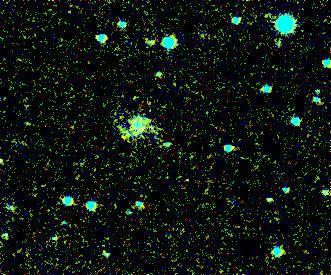star: (106, 124, 136, 154)
